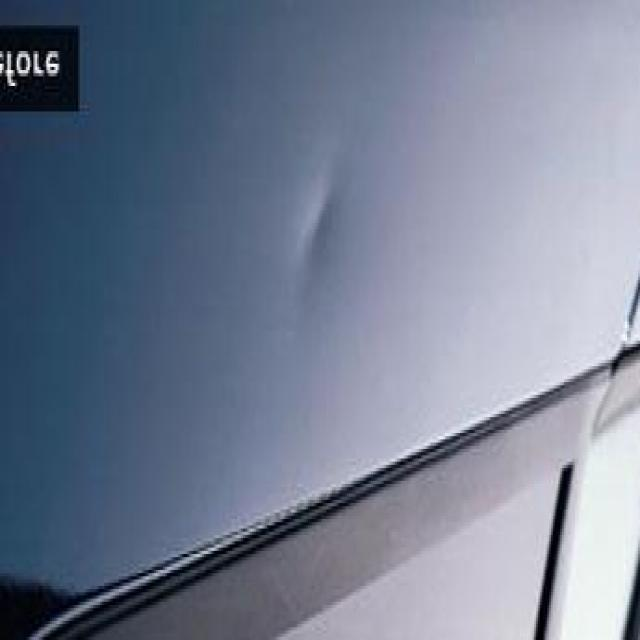dent: (280, 125, 382, 288)
